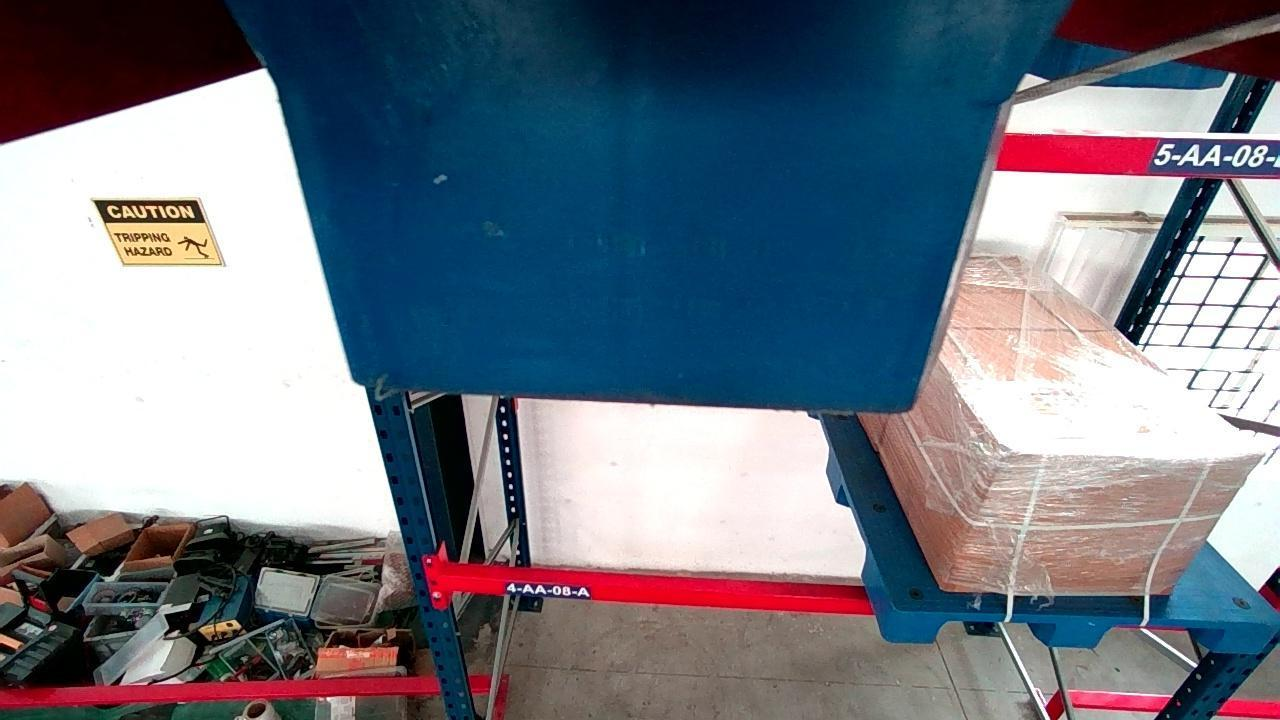h_rack: (441, 568, 875, 611), (995, 132, 1280, 181)
small_pallet: (889, 607, 1278, 656)
